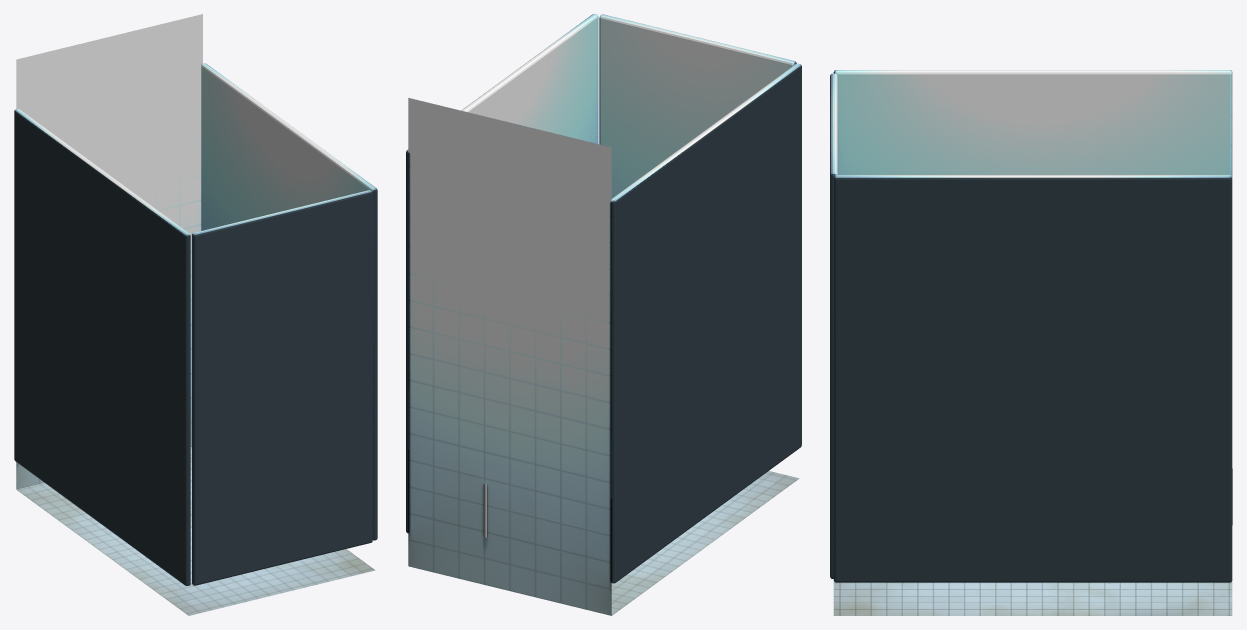
File: stall.glb
3 views of the same model, side by side, from view 1: azimuth 30°, elevation 25°; view 2: azimuth 150°, elevation 25°; view 3: azimuth 270°, elevation 25° (orthographic). The views are drawn at different scales.
Parts seen in each view (by area): view 1: Door, Partition_L, BackWall, Partition_R, Floor; view 2: BackWall, Partition_L, Door, Partition_R, Floor; view 3: Partition_R, Partition_L, Floor, Door.
Part boxes in pixels (left/top/right/bottom): Door: left=192, top=190, right=372, bottom=585; Partition_L: left=14, top=109, right=190, bottom=585; BackWall: left=16, top=14, right=202, bottom=489; Partition_R: left=201, top=63, right=377, bottom=540; Floor: left=17, top=447, right=375, bottom=615; BackWall: left=408, top=98, right=611, bottom=615; Partition_L: left=610, top=63, right=801, bottom=583; Door: left=599, top=14, right=796, bottom=198; Partition_R: left=406, top=14, right=598, bottom=533; Floor: left=611, top=471, right=799, bottom=615; Partition_R: left=833, top=175, right=1232, bottom=582; Partition_L: left=833, top=70, right=1232, bottom=176; Floor: left=833, top=580, right=1232, bottom=615; Door: left=830, top=73, right=837, bottom=578.
Size of the model in its own units: 1.03 by 2.2 by 1.62.
7 materials, 5 textured.
